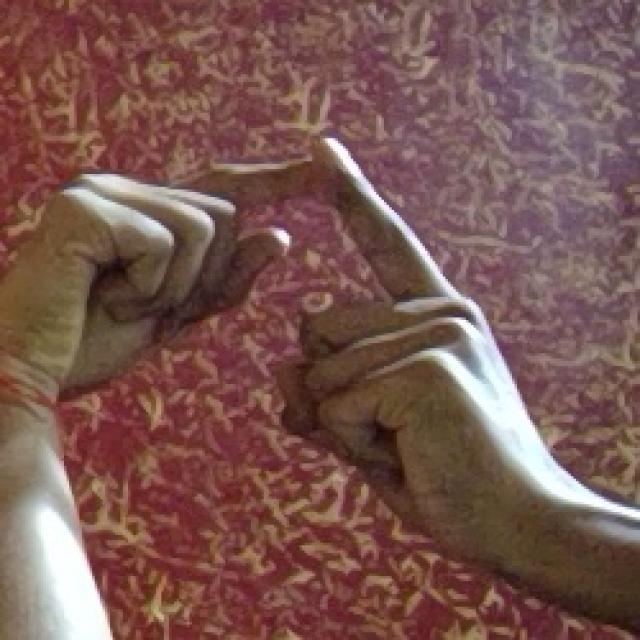Alphabet-E: (0, 138, 640, 640), (0, 174, 287, 640)
